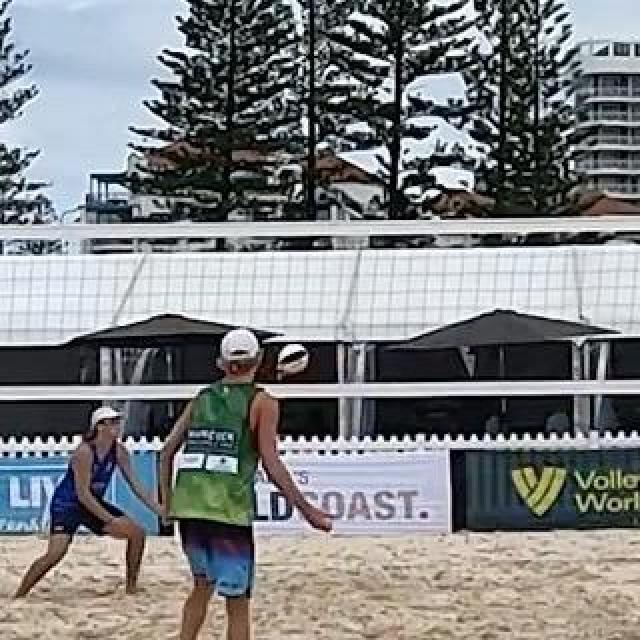volleyball: (279, 345, 309, 375)
